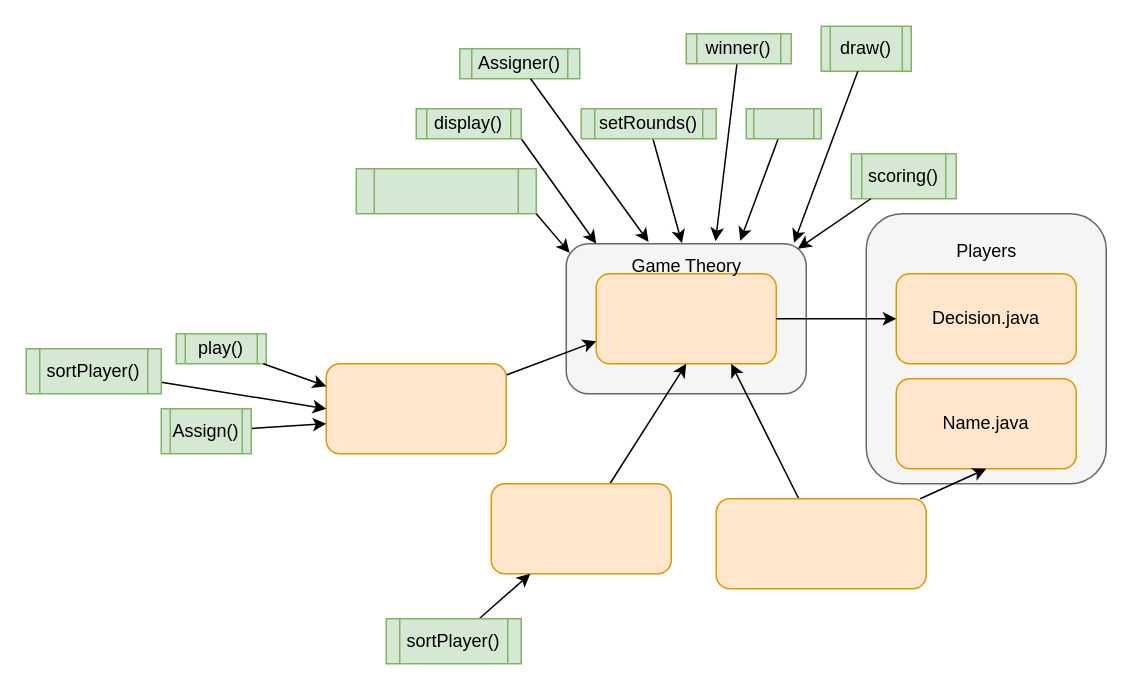
Image size: 1133x690. Some labels were removed from this diagram. The centre of each missing label's shape, as x and y in pixels:
"displayChoices()" belongs at point 445,190.
"Game_theory.java" belongs at point 685,318.
"input()" belongs at point 783,123.
"Play_game_theory.java" belongs at point 820,543.
"Simulation.java" belongs at point 415,408.
"Tournament.java" belongs at point 580,528.
